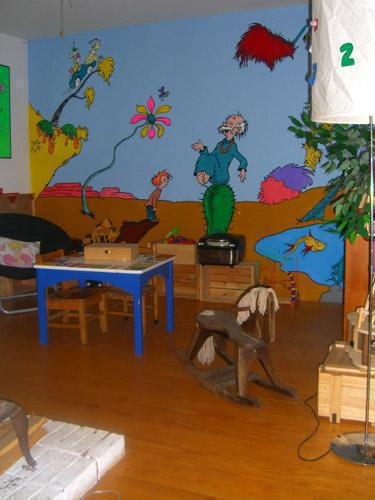Otro Obstaculo: (302, 3, 369, 462), (188, 292, 289, 411), (5, 402, 125, 499), (321, 355, 372, 425), (176, 266, 264, 302)
